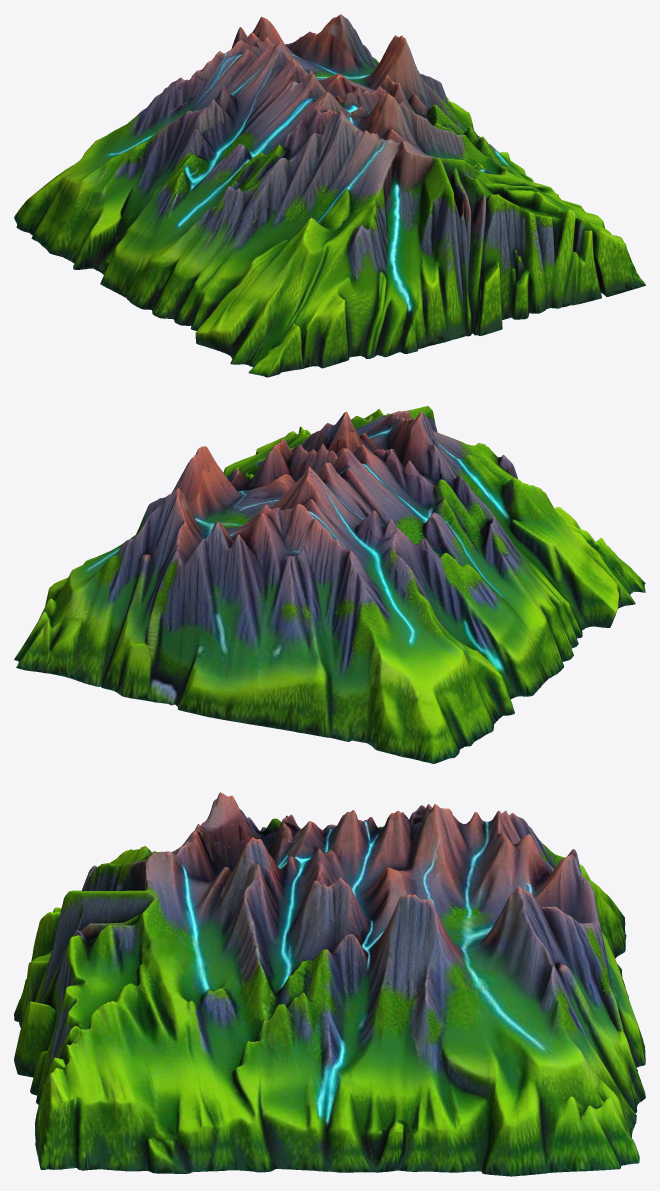
File: mountain_v2_mobile.glb
3 views of the same model, one above another, from view 1: azimuth 30°, elevation 25°; view 2: azimuth 150°, elevation 25°; view 3: azimuth 270°, elevation 25° (orthographic). The views are drawn at different scales.
Size of the model in its own units: 1.89 by 0.7754 by 1.9.
Materials: 1 (1 with a texture image).
